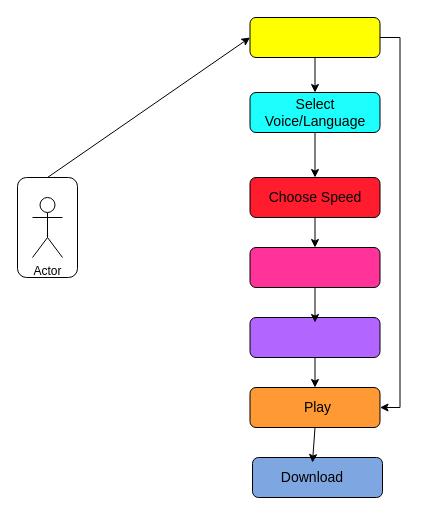
Image size: 426x515. Some labels were removed from this diagram. The box of each missing label's shape, as (x1, y1, x2, y2) in pixels:
Choose Pitch: (249, 246, 380, 288)
Choose Volume: (249, 316, 380, 358)
Provide Input: (249, 16, 380, 58)
